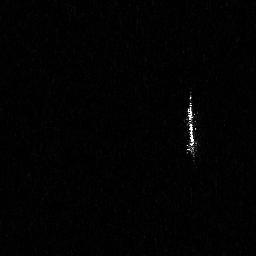ship: (183, 92, 198, 160)
